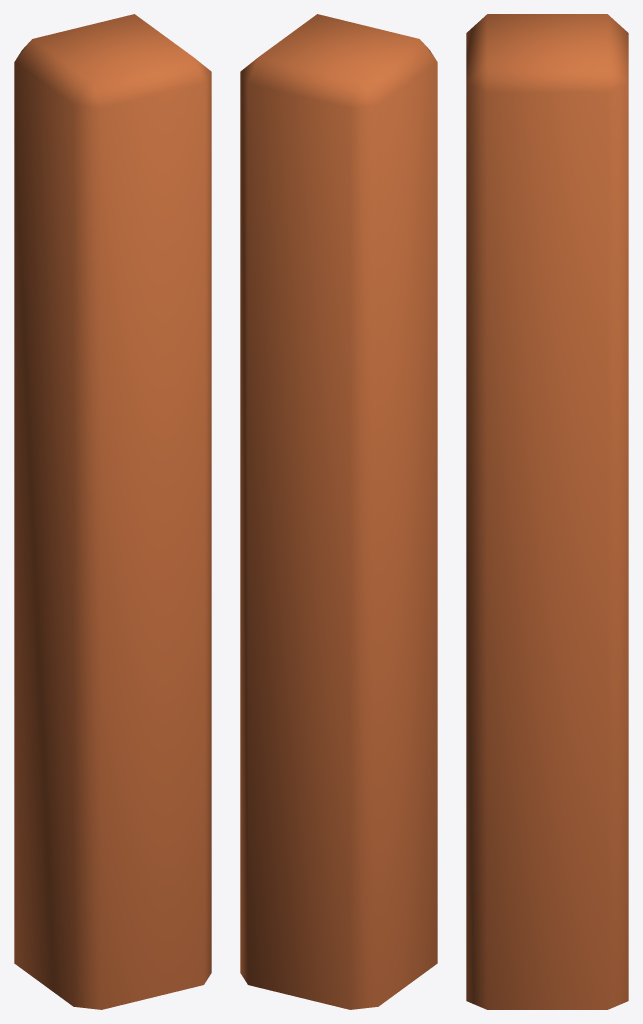
Rendered from bridgeTileRail.glb.
The picture shows the model from 3 angles, left to right: view 1: azimuth 30°, elevation 25°; view 2: azimuth 150°, elevation 25°; view 3: azimuth 270°, elevation 25°; orthographic projection.
Parts seen in each view (by area): view 1: bridgeTileRail; view 2: bridgeTileRail; view 3: bridgeTileRail.
Part boxes in pixels (x1,y1,x2,y2): bridgeTileRail: (14,14,211,1009); bridgeTileRail: (240,14,437,1009); bridgeTileRail: (466,14,628,1009).
Bounding box in the file's own units: 0.1564 × 0.997 × 0.1564.
Materials: 1 (1 with a texture image).
